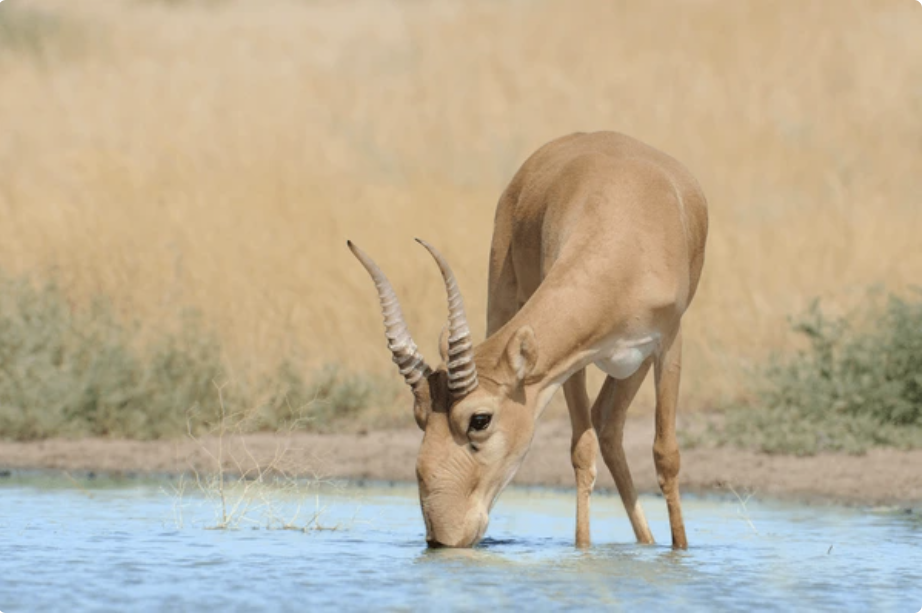saiga: (342, 122, 724, 568)
